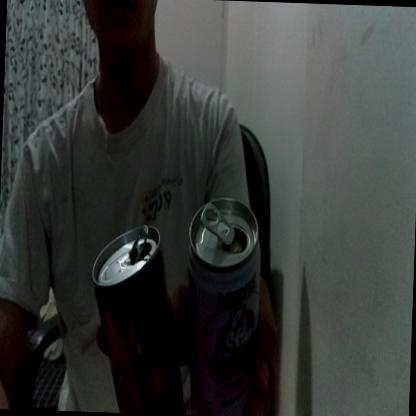alumunium_can: (85, 221, 188, 415), (181, 196, 265, 416)
